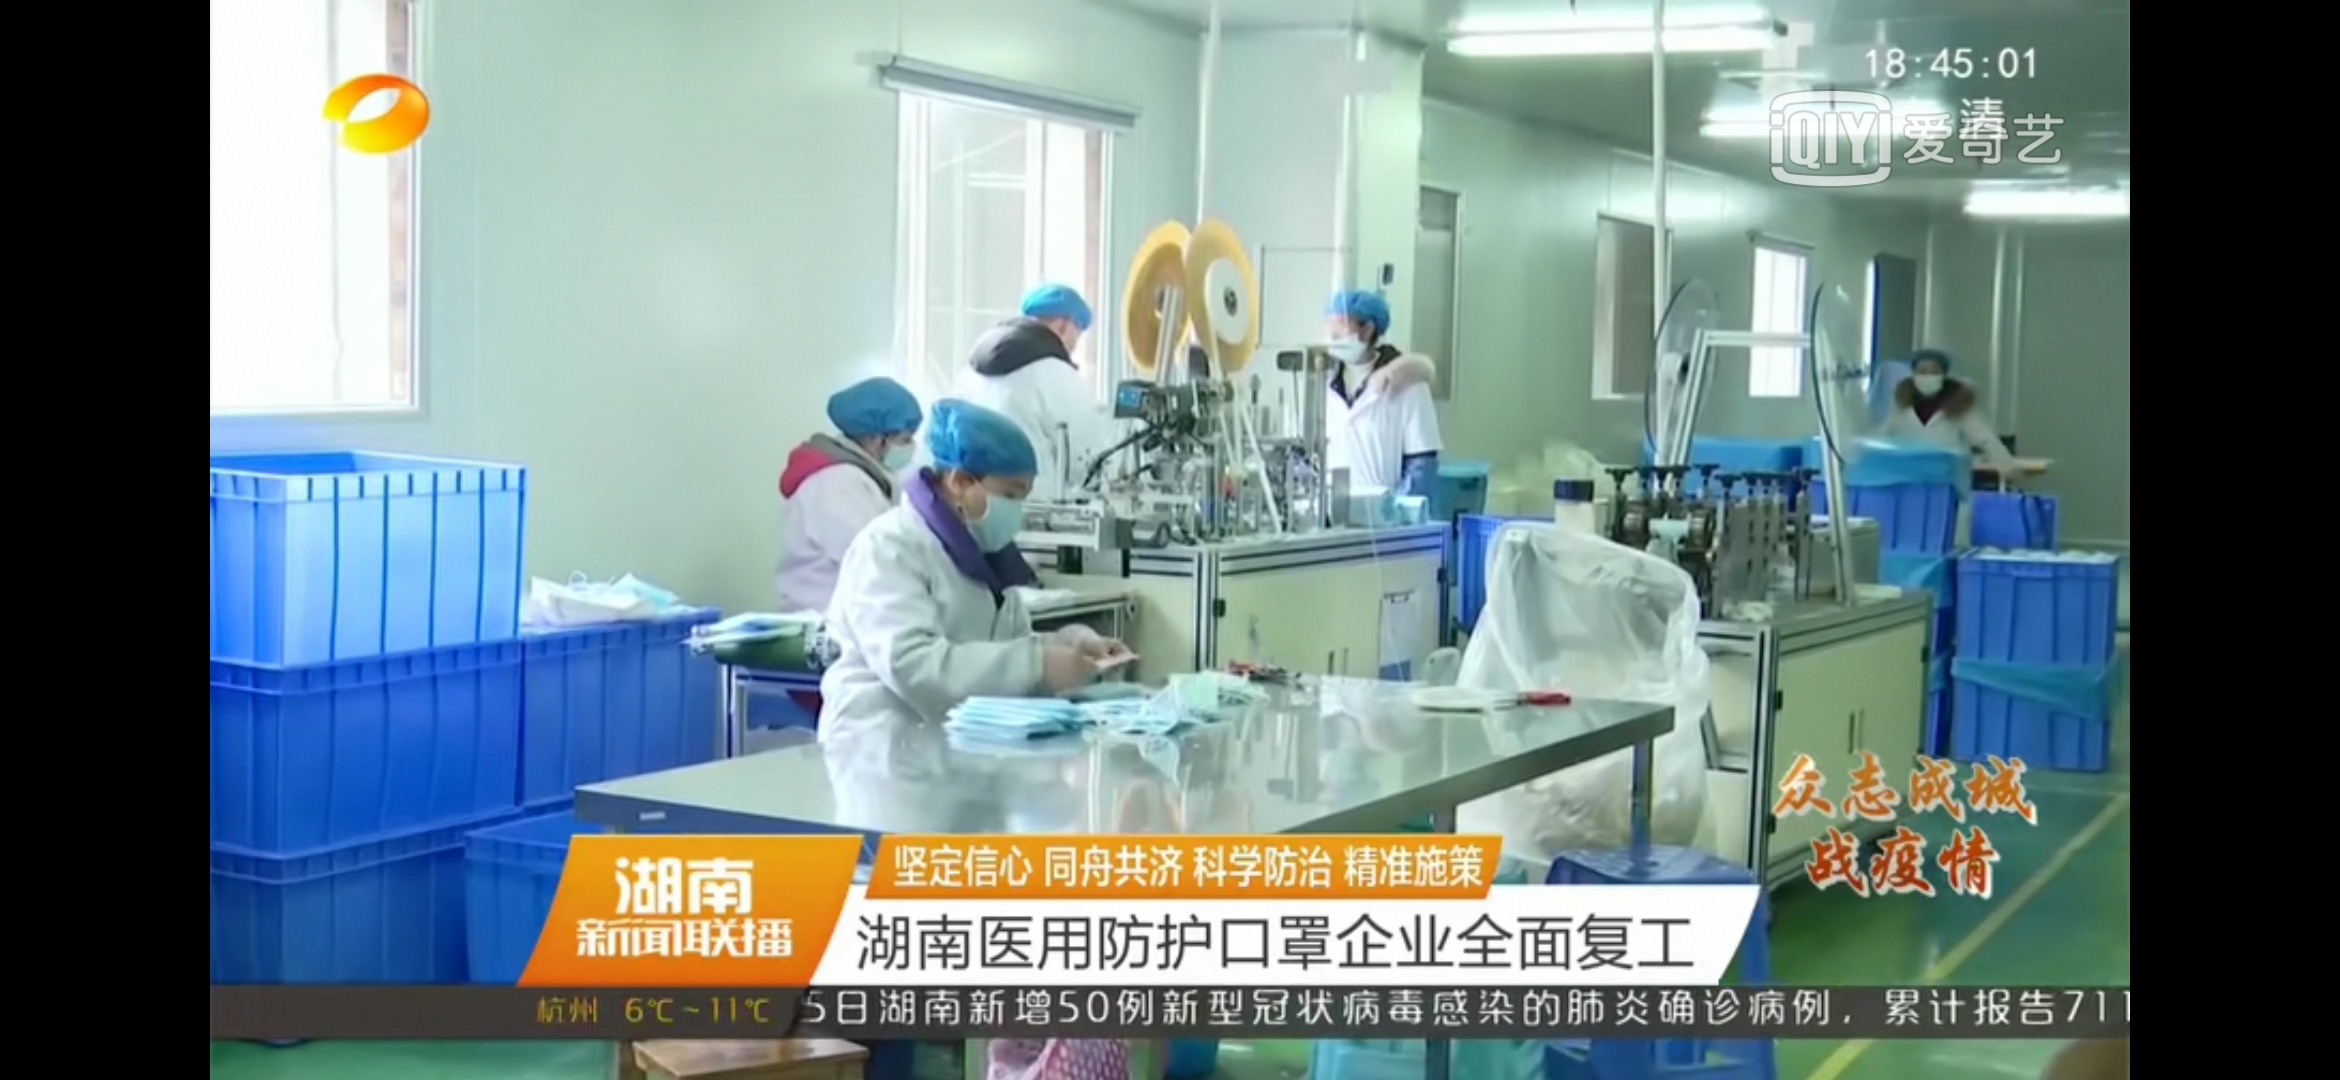correctlyWear: (943, 462, 1034, 553), (873, 406, 919, 474), (1324, 307, 1380, 362), (1909, 362, 1949, 395)
